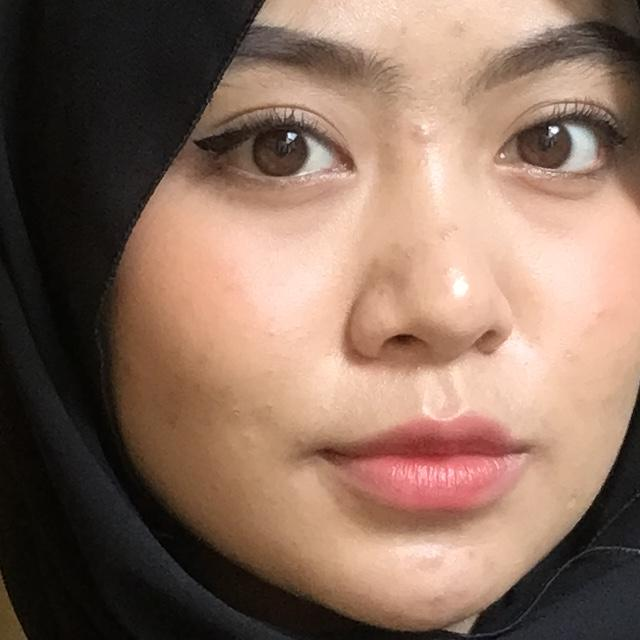kapan: (0, 336, 345, 640)
